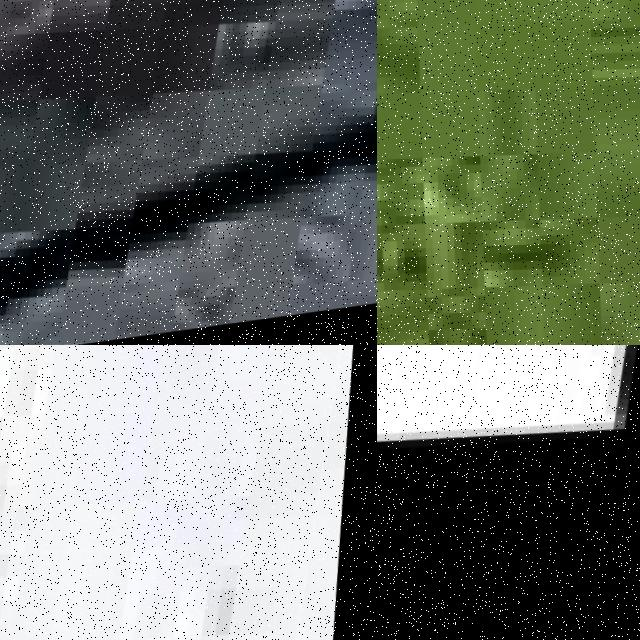0: (0, 0, 377, 345)
drone: (0, 345, 377, 640), (377, 345, 640, 640)
